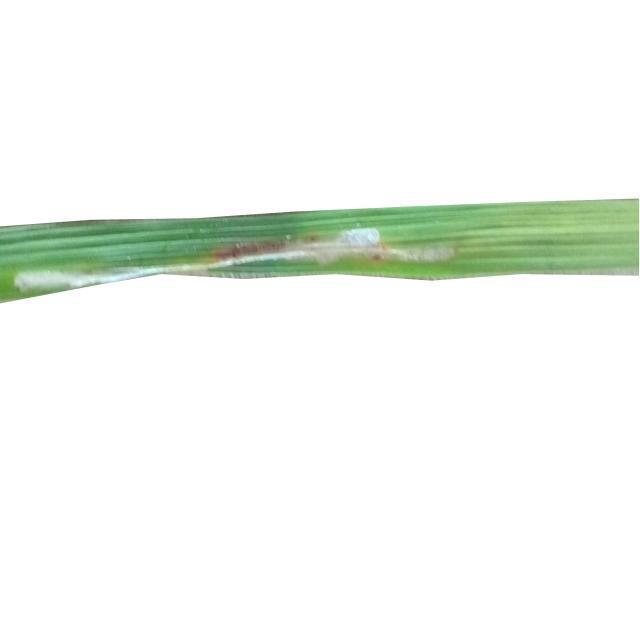Bacterial_Leaf_Blight: (193, 239, 460, 271), (328, 225, 381, 274), (9, 263, 101, 291)
